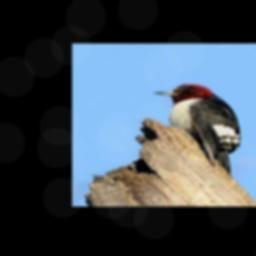Woodpecker: (152, 83, 242, 174)
